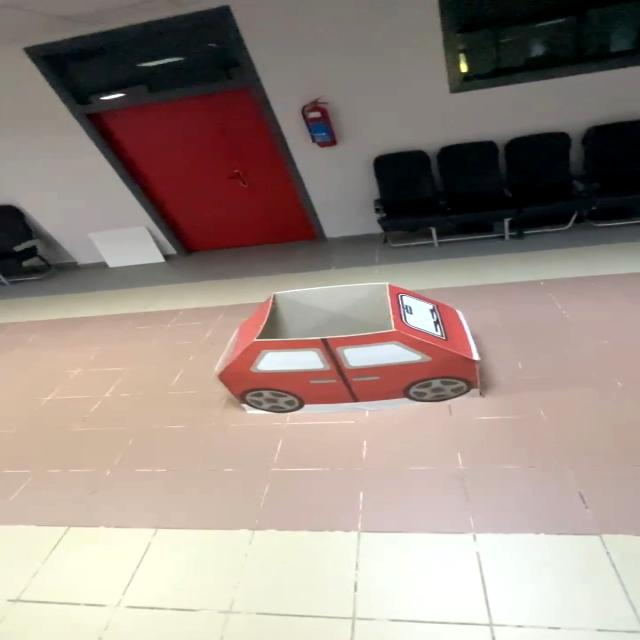red_car: (190, 267, 516, 435)
